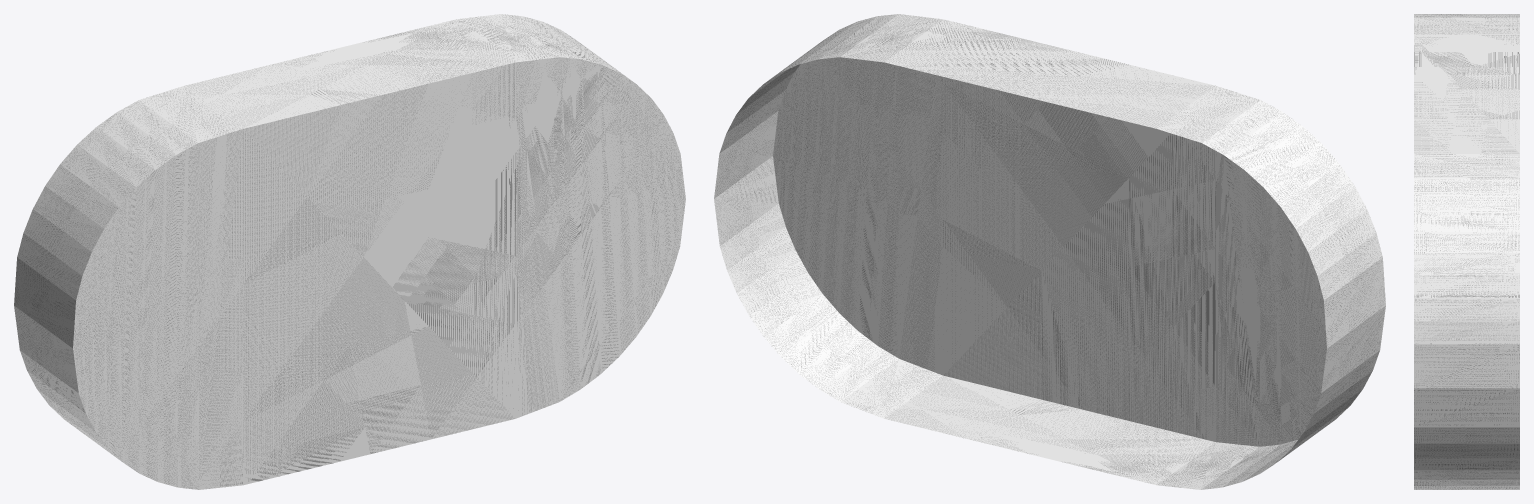
File: original-31.obj
3 renders of one model, left to right at view 1: azimuth 30°, elevation 25°; view 2: azimuth 150°, elevation 25°; view 3: azimuth 270°, elevation 25°, orthographic. The views are drawn at different scales.
Visible parts, largest first — view 1: mesh9/mesh9-geometry/material_0/component_18#mesh9-geometry; view 2: mesh9/mesh9-geometry/material_0/component_18#mesh9-geometry; view 3: mesh9/mesh9-geometry/material_0/component_18#mesh9-geometry.
Boxes of the visible parts, x1,y1,x2,y2 form: mesh9/mesh9-geometry/material_0/component_18#mesh9-geometry: (14, 14, 685, 489); mesh9/mesh9-geometry/material_0/component_18#mesh9-geometry: (714, 14, 1385, 489); mesh9/mesh9-geometry/material_0/component_18#mesh9-geometry: (1414, 14, 1519, 489).
Bounding box in the file's own units: 0.091 × 0.0506 × 0.0152.
